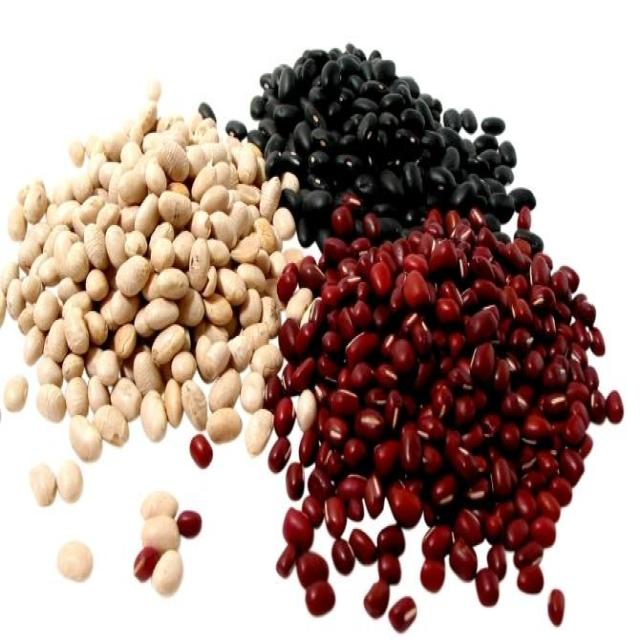frijoles: (326, 246, 614, 605)
